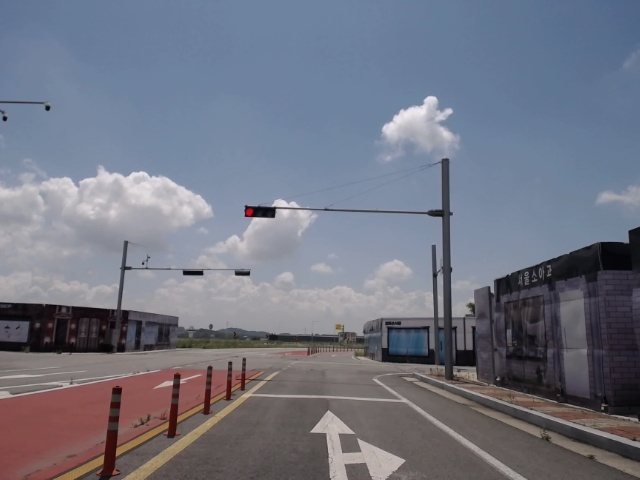red_3: (243, 206, 276, 219)
